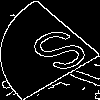S: (25, 25, 100, 83)
